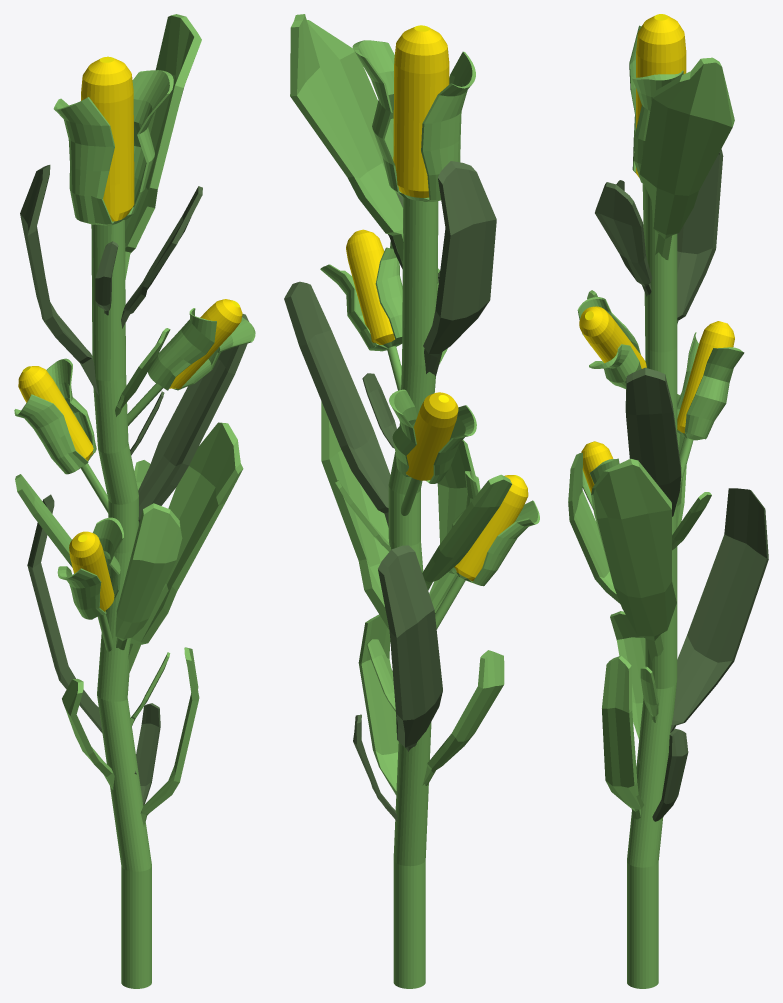
File: CornStalk.fbx
3 views of the same model, side by side, from view 1: azimuth 30°, elevation 25°; view 2: azimuth 150°, elevation 25°; view 3: azimuth 270°, elevation 25° (orthographic). The views are drawn at different scales.
Visible parts, largest first — view 1: Cornstalk; view 2: Cornstalk; view 3: Cornstalk.
Part boxes in pixels (<box>): Cornstalk: <box>14,14,255,988</box>; Cornstalk: <box>284,14,539,988</box>; Cornstalk: <box>568,14,768,988</box>.
Size of the model in its own units: 58.8 by 238 by 45.01.
